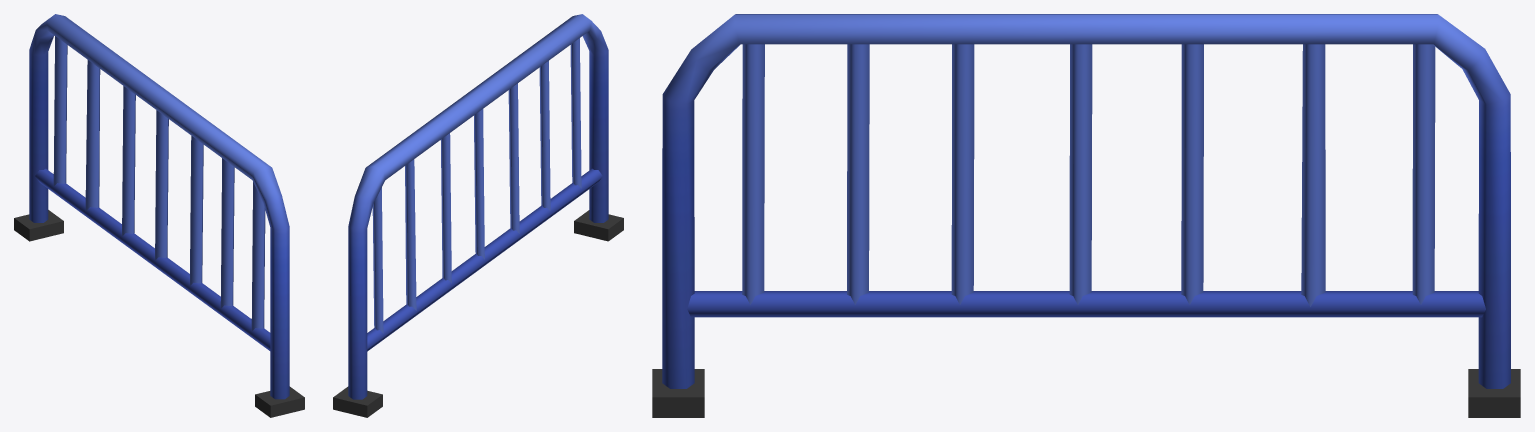
Rendered from Barier_4_B.fbx.
3 views of the same model, side by side, from view 1: azimuth 30°, elevation 25°; view 2: azimuth 150°, elevation 25°; view 3: azimuth 270°, elevation 25° (orthographic). The views are drawn at different scales.
Visible parts, largest first — view 1: Barier_4_B; view 2: Barier_4_B; view 3: Barier_4_B.
Part boxes in pixels (bbox=[...]): Barier_4_B: bbox=[14, 14, 304, 417]; Barier_4_B: bbox=[333, 14, 623, 417]; Barier_4_B: bbox=[652, 14, 1520, 417].
Size of the model in its own units: 15.74 by 101 by 204.
